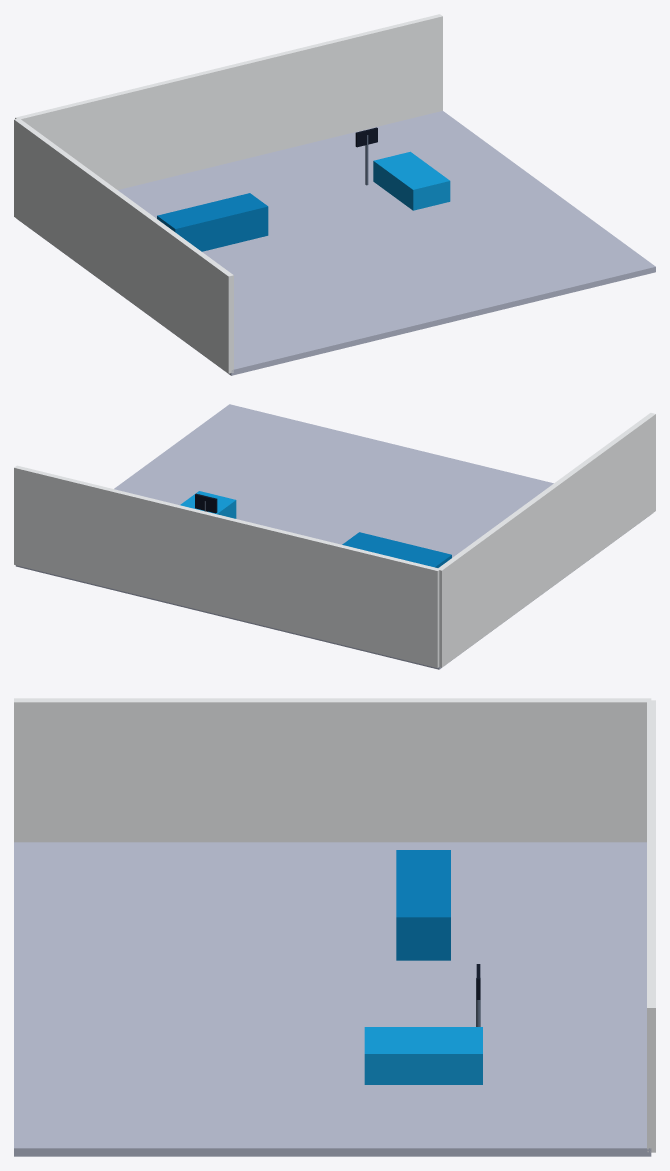
The model's file is hospital_suite.glb.
3 views of the same model, one above another, from view 1: azimuth 30°, elevation 25°; view 2: azimuth 150°, elevation 25°; view 3: azimuth 270°, elevation 25° (orthographic). The views are drawn at different scales.
Visible parts, largest first — view 1: HospitalSuite; view 2: HospitalSuite; view 3: HospitalSuite.
Boxes of the visible parts, x1=… form: HospitalSuite: x1=14, y1=14, x2=655, y2=375; HospitalSuite: x1=14, y1=404, x2=655, y2=669; HospitalSuite: x1=14, y1=698, x2=655, y2=1156.
Size of the model in its own units: 16.1 by 3.6 by 14.1.
